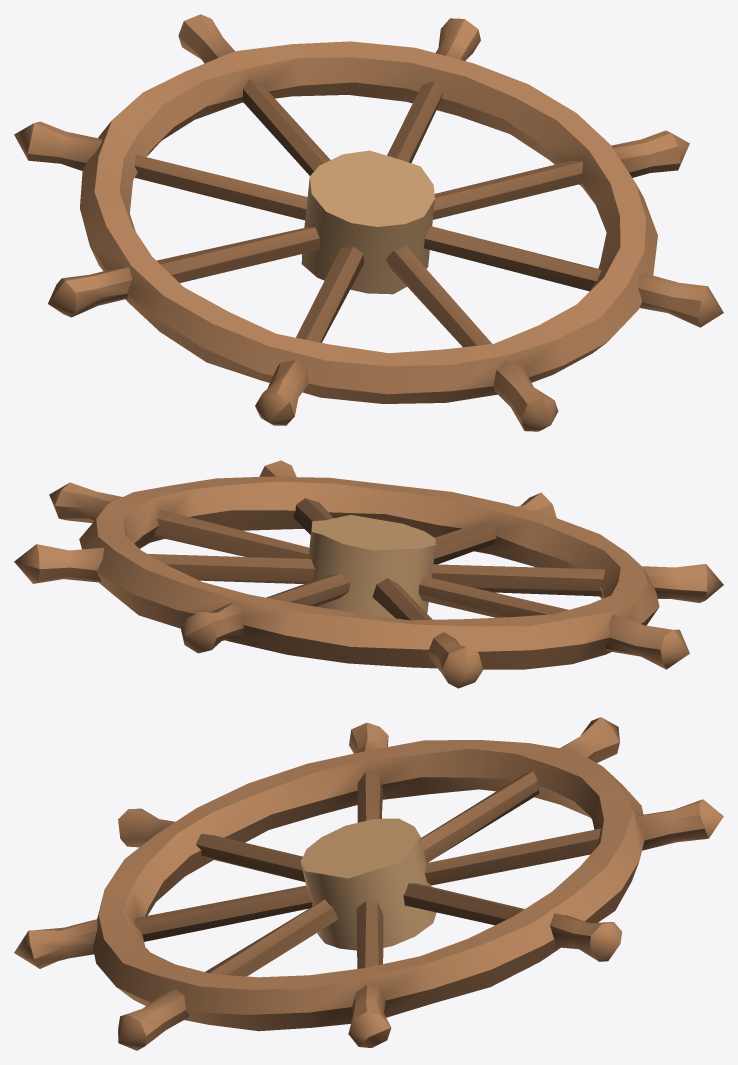
File: find_wheel.glb
The picture shows the model from 3 angles, top to bottom: view 1: azimuth 30°, elevation 25°; view 2: azimuth 150°, elevation 25°; view 3: azimuth 270°, elevation 25°; orthographic projection. The views are drawn at different scales.
Parts seen in each view (by area): view 1: find_wheel; view 2: find_wheel; view 3: find_wheel.
Boxes of the visible parts, x1,y1,x2,y2 form: find_wheel: (14,14,723,431); find_wheel: (14,460,723,688); find_wheel: (14,717,723,1050).
Bounding box in the file's own units: 1.4 × 0.3552 × 1.37.
